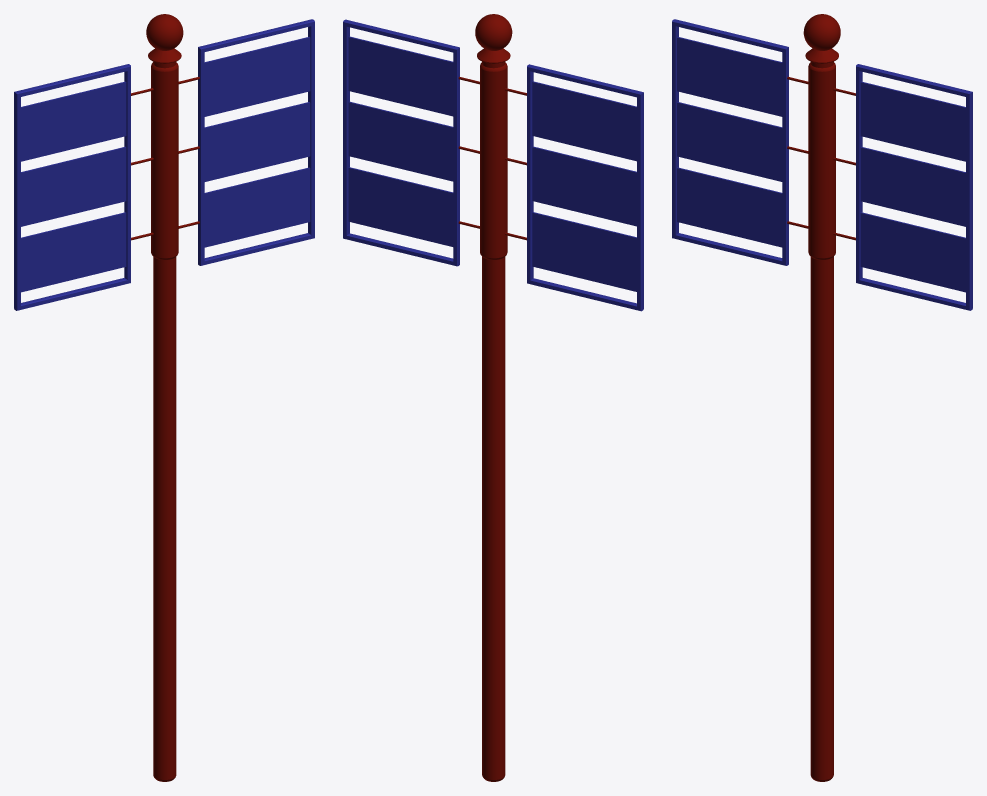
Rendered from StationBoard.gltf.
3 renders of one model, left to right at view 1: azimuth 30°, elevation 25°; view 2: azimuth 150°, elevation 25°; view 3: azimuth 330°, elevation 25°, orthographic.
Visible parts, largest first — view 1: board, base; view 2: board, base; view 3: board, base.
Boxes of the visible parts, x1=… form: board: x1=14, y1=19, x2=314, y2=310; base: x1=131, y1=14, x2=199, y2=781; board: x1=343, y1=19, x2=643, y2=311; base: x1=458, y1=14, x2=526, y2=781; board: x1=672, y1=19, x2=972, y2=310; base: x1=787, y1=14, x2=855, y2=781.
Size of the model in its own units: 130 by 317 by 14.
